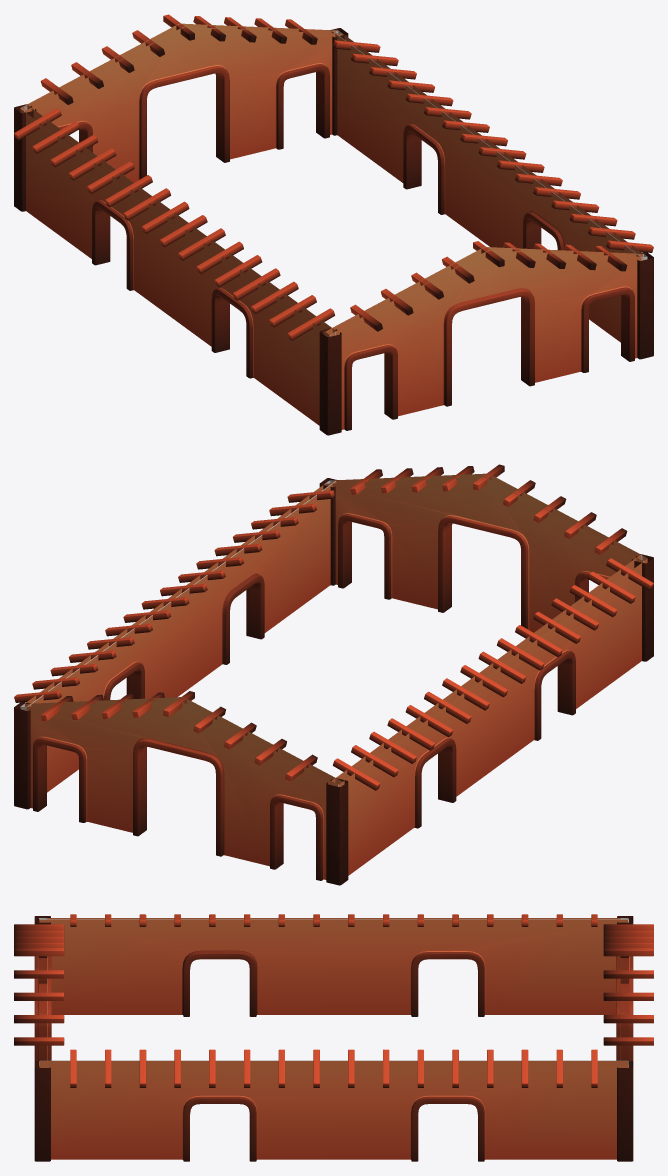
File: grange.fbx
The picture shows the model from 3 angles, top to bottom: view 1: azimuth 30°, elevation 25°; view 2: azimuth 150°, elevation 25°; view 3: azimuth 270°, elevation 25°; orthographic projection. The views are drawn at different scales.
Parts seen in each view (by area): view 1: Weighted_Normal2; view 2: Weighted_Normal2; view 3: Weighted_Normal2.
Part boxes in pixels (x1,y1,x2,y2): Weighted_Normal2: (14, 14, 653, 435); Weighted_Normal2: (14, 464, 653, 885); Weighted_Normal2: (14, 914, 653, 1161).
Size of the model in its own units: 491 by 186 by 786.
